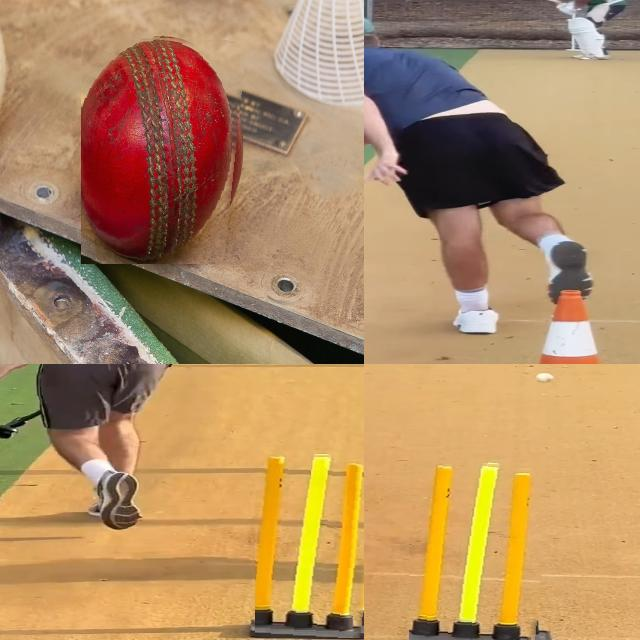Cricket ball: (81, 34, 247, 264), (535, 371, 556, 384)
Stumps: (409, 460, 553, 640), (254, 452, 364, 638)
